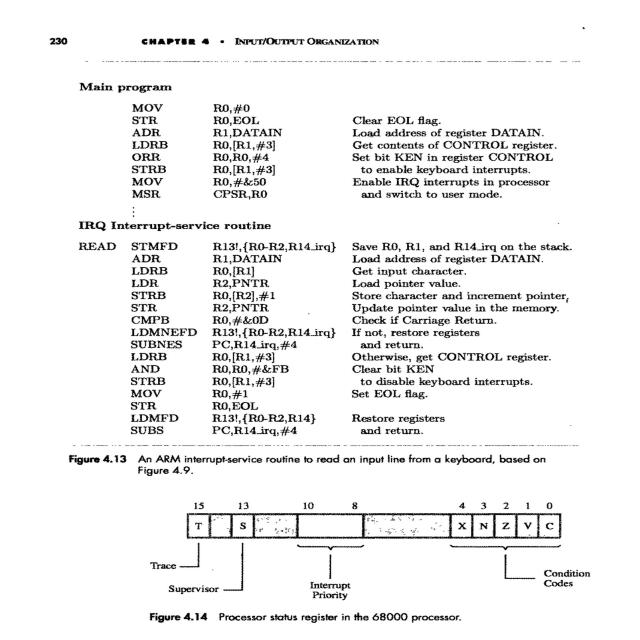diagram: (46, 443, 625, 634)
